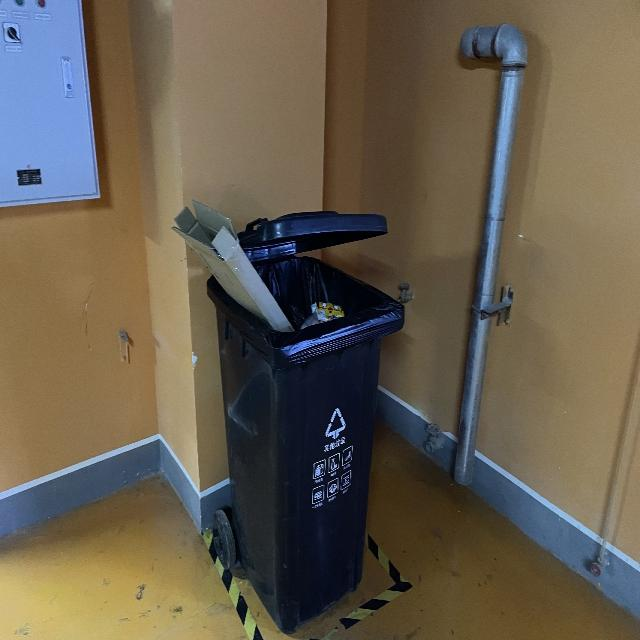overflow: (170, 198, 404, 636)
